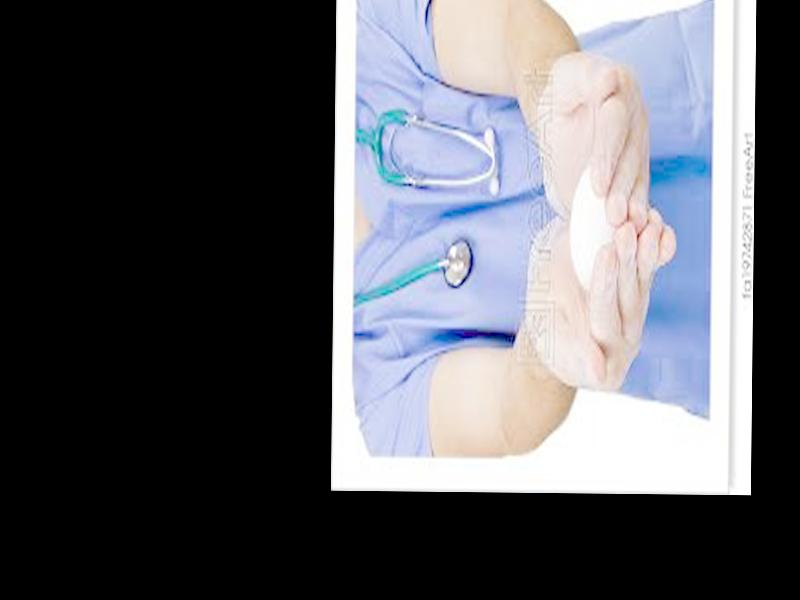Eggs: (569, 164, 618, 287)
